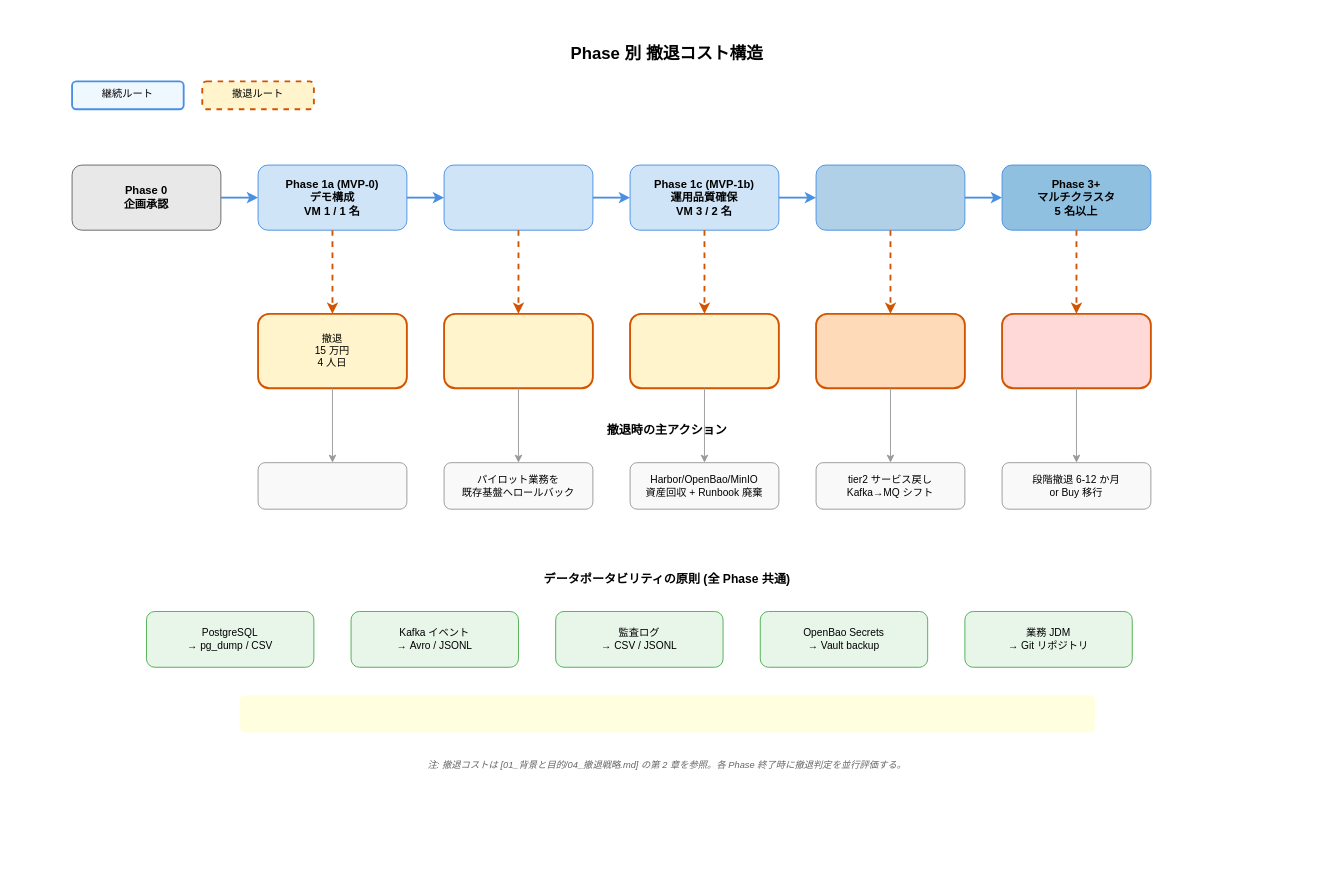
The diagram is 1334 pixels wide and 869 high, and some of its shapes have lost their labels. The shapes that lost their labels are listed below. From the top down, each one's centre as x and y in pixels, then its label:
At (x=518, y=197): "Phase 1b (MVP-1a) パイロット稼働 VM 3 / 2 名".
At (x=890, y=197): "Phase 2 基盤拡張 2-3 名".
At (x=518, y=350): "撤退 120 万円 25 人日".
At (x=704, y=350): "撤退 230 万円 43 人日".
At (x=890, y=350): "撤退 520 万円 90 人日".
At (x=1076, y=350): "撤退 1,200〜2,240 万円 業務数に比例".
At (x=332, y=485): "VM 停止 + 知見保管".
At (x=667, y=713): "全データを標準形式 (OSS ツールでパース可能) で保管。JTC 独自バイナリ / 暗号形式でロックしない。".
